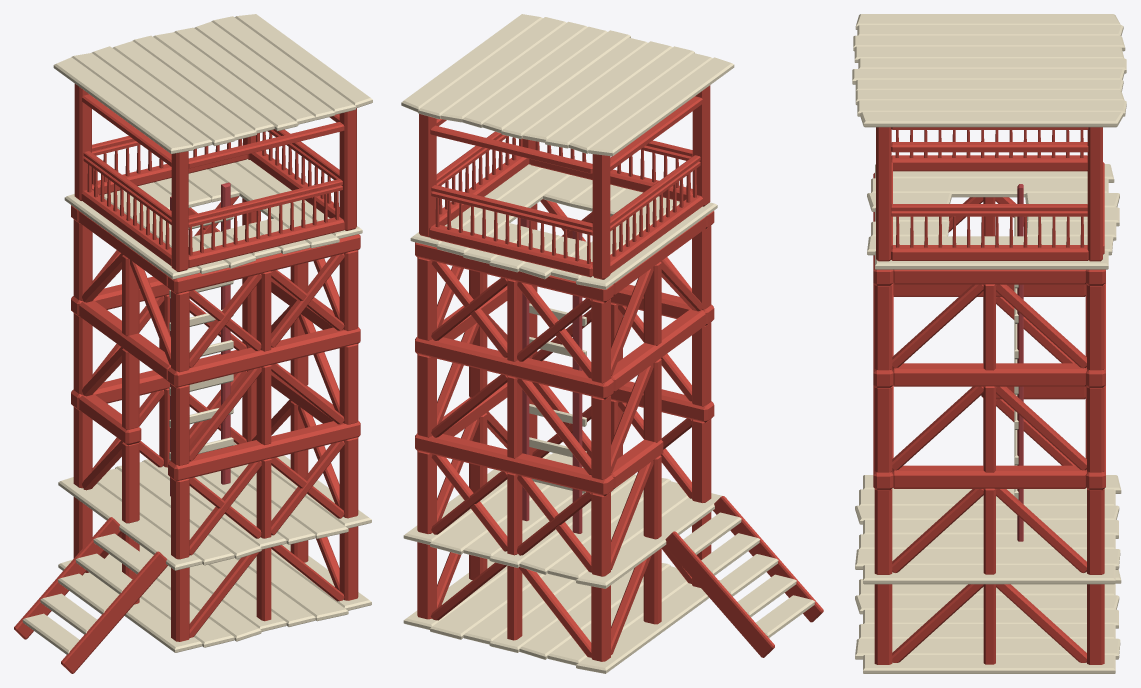
Rendered from farmstractures_10.gltf.
The picture shows the model from 3 angles, left to right: view 1: azimuth 30°, elevation 25°; view 2: azimuth 150°, elevation 25°; view 3: azimuth 270°, elevation 25°; orthographic projection. The views are drawn at different scales.
Visible parts, largest first — view 1: body, blades; view 2: body, blades; view 3: body, blades.
Boxes of the visible parts, left/top/right/bottom form: body: left=14, top=84, right=372, bottom=673; blades: left=53, top=14, right=370, bottom=387; body: left=401, top=85, right=823, bottom=673; blades: left=404, top=14, right=734, bottom=399; body: left=852, top=14, right=1126, bottom=673; blades: left=852, top=14, right=1126, bottom=386.
Size of the model in its own units: 5.29 by 8.57 by 3.82.
Materials: 1 (1 with a texture image).
